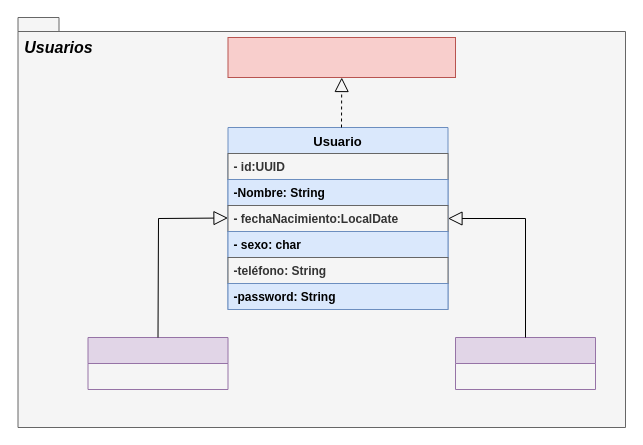
This 643x445 diagram has some shape labels left out. The shapes that lost their labels are listed below. From the top down, each one's centre as x and y in pixels, then its label:
pixel 341 57: <<Interface>> Serializable
pixel 157 363: Mesero
pixel 525 363: Administrador
